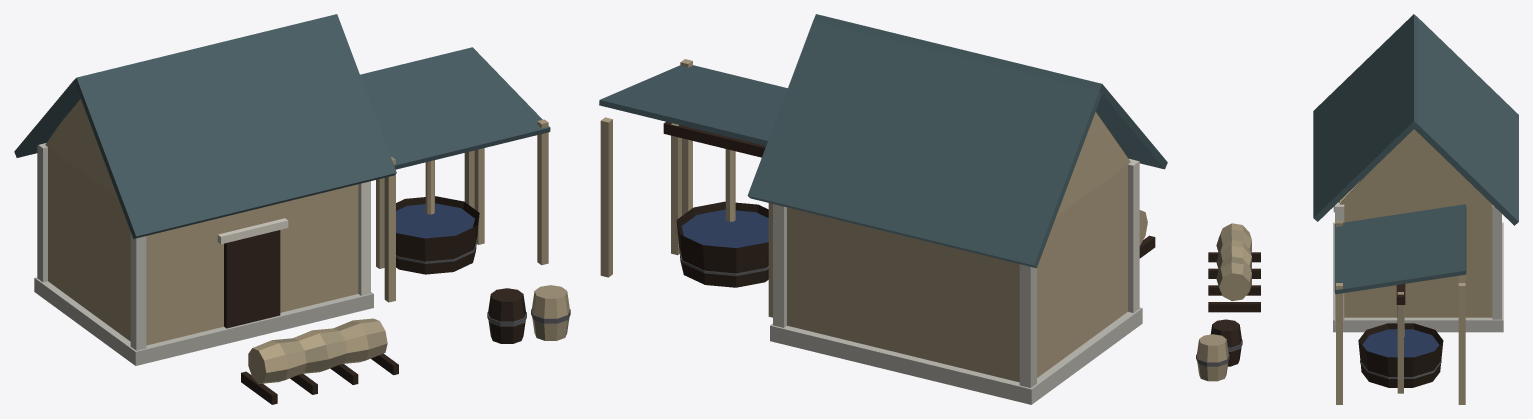
The model's file is walk_veiled_winery.glb.
3 views of the same model, side by side, from view 1: azimuth 30°, elevation 25°; view 2: azimuth 150°, elevation 25°; view 3: azimuth 270°, elevation 25° (orthographic). The views are drawn at different scales.
Visible parts, largest first — view 1: walk_veiled_winery, walk_veiled_winery_roof; view 2: walk_veiled_winery, walk_veiled_winery_roof; view 3: walk_veiled_winery_roof, walk_veiled_winery.
Boxes of the visible parts, <box> form: walk_veiled_winery: <box>34,99,570,404</box>; walk_veiled_winery_roof: <box>14,14,550,238</box>; walk_veiled_winery: <box>600,59,1155,404</box>; walk_veiled_winery_roof: <box>599,14,1167,268</box>; walk_veiled_winery_roof: <box>1313,14,1518,294</box>; walk_veiled_winery: <box>1196,129,1503,404</box>.
Size of what is drawn, in the model's own units: 9.5 by 5.45 by 7.38.
2 materials, 2 textured.
